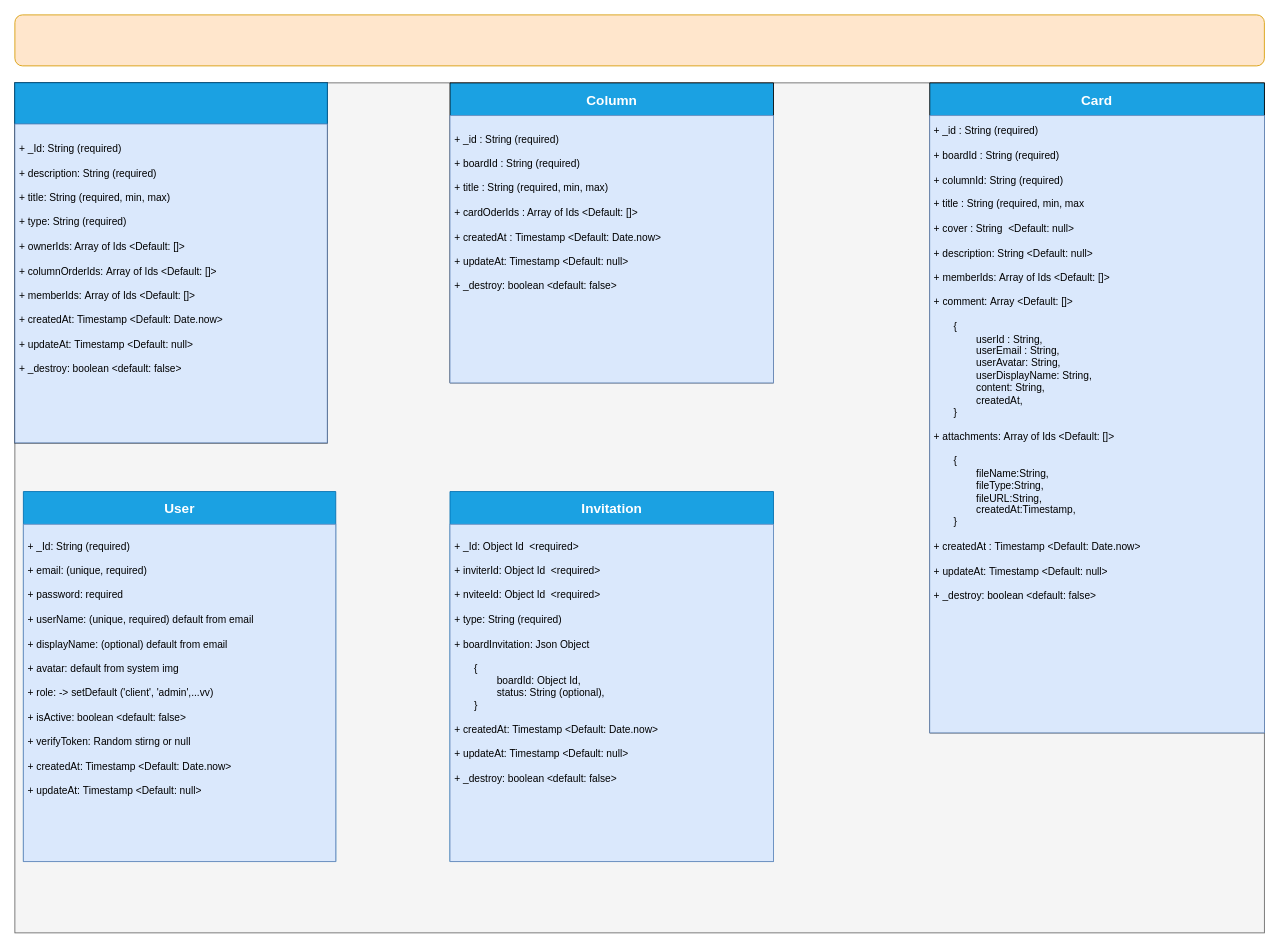
Some shapes in this 1280 by 948 pixel diagram are drawn without their labels. Each missing label, with the centre of its shape:
Board: (x=170, y=103)
DataBase Schema v2.0.0 (Trello Advance): (x=639, y=40)
